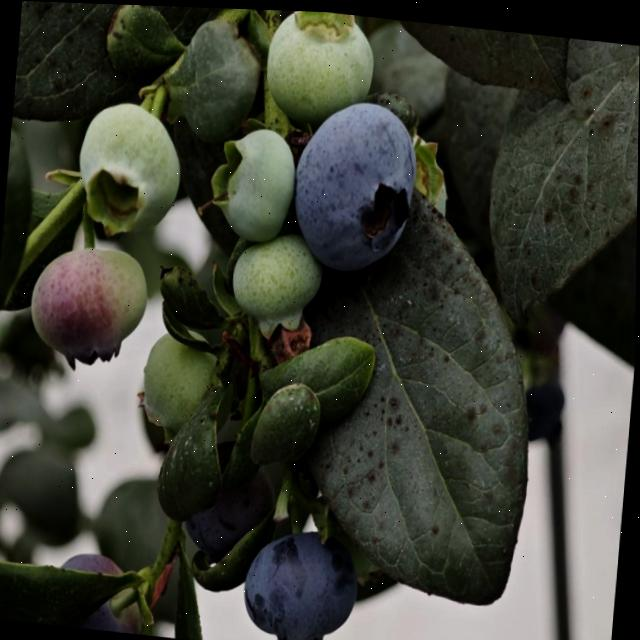RipeBlueBerry: (294, 91, 419, 277)
Semi-RipeBlueBerry: (27, 242, 148, 371)
UnripeBlueBerry: (76, 91, 186, 238), (261, 8, 379, 118), (208, 121, 299, 243), (227, 228, 322, 328)
